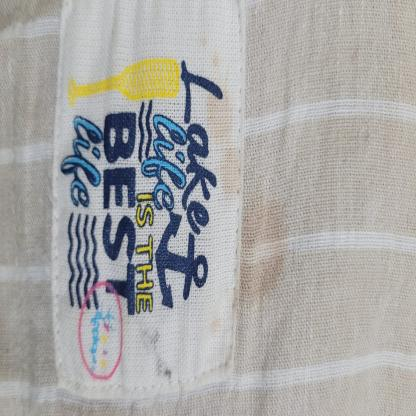spot: (197, 29, 250, 200), (238, 154, 289, 311), (209, 47, 238, 191), (146, 328, 174, 382)
